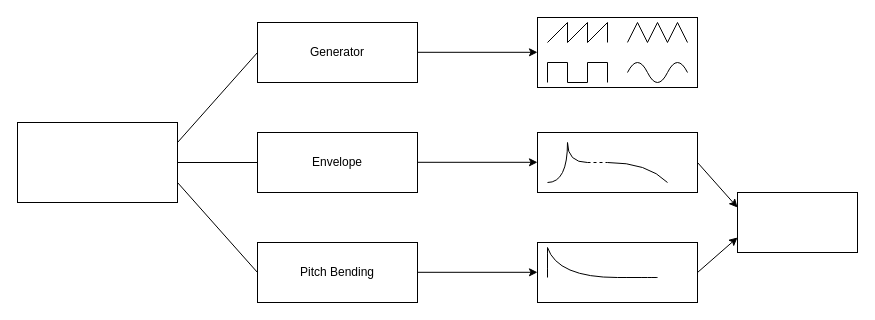
Some shapes in this 875 by 320 pixel diagram are drawn without their labels. The box of each missing label's shape, as (x1, y1, x2, y2) in pixels:
Shaper: (736, 192, 858, 252)
ToneGenerator: (16, 122, 178, 202)
